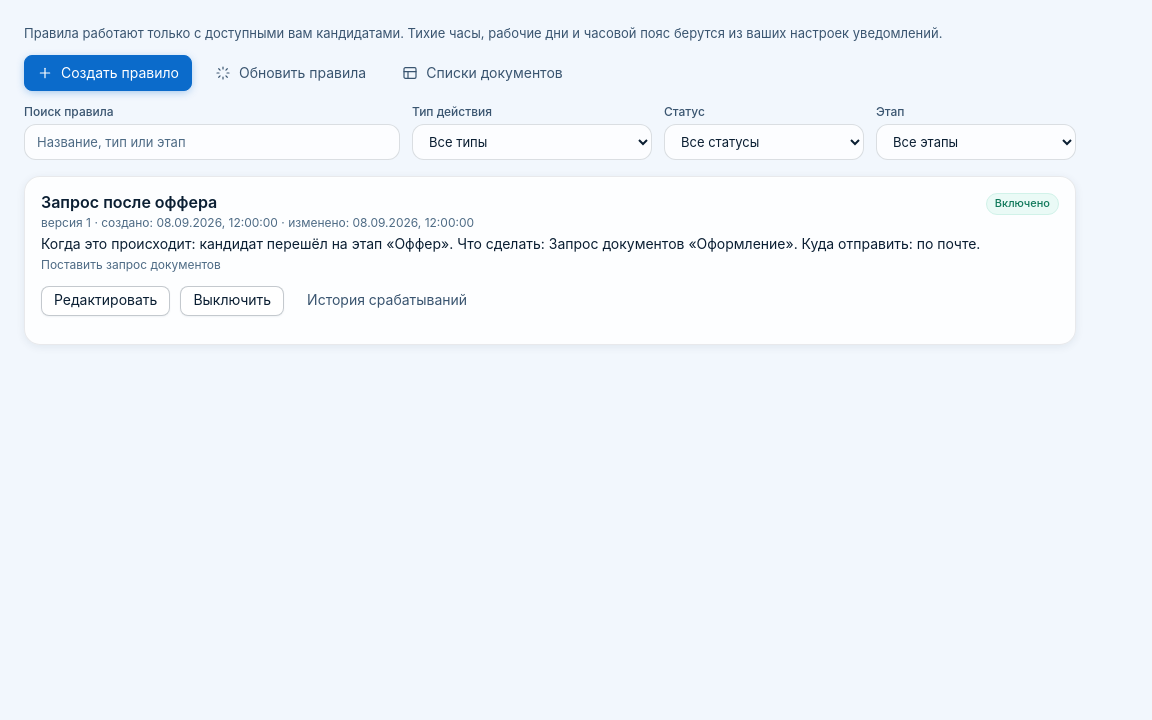
Мои правила › explains a 409 conflict and keeps the data visible
Expected: the heading "Запрос после оффера" is shown, [41, 192, 217, 212]
What coordinates should you click on to do the following:
click the button "Выключить"
I would click on:
 (232, 300)
Its box is [180, 286, 284, 316].
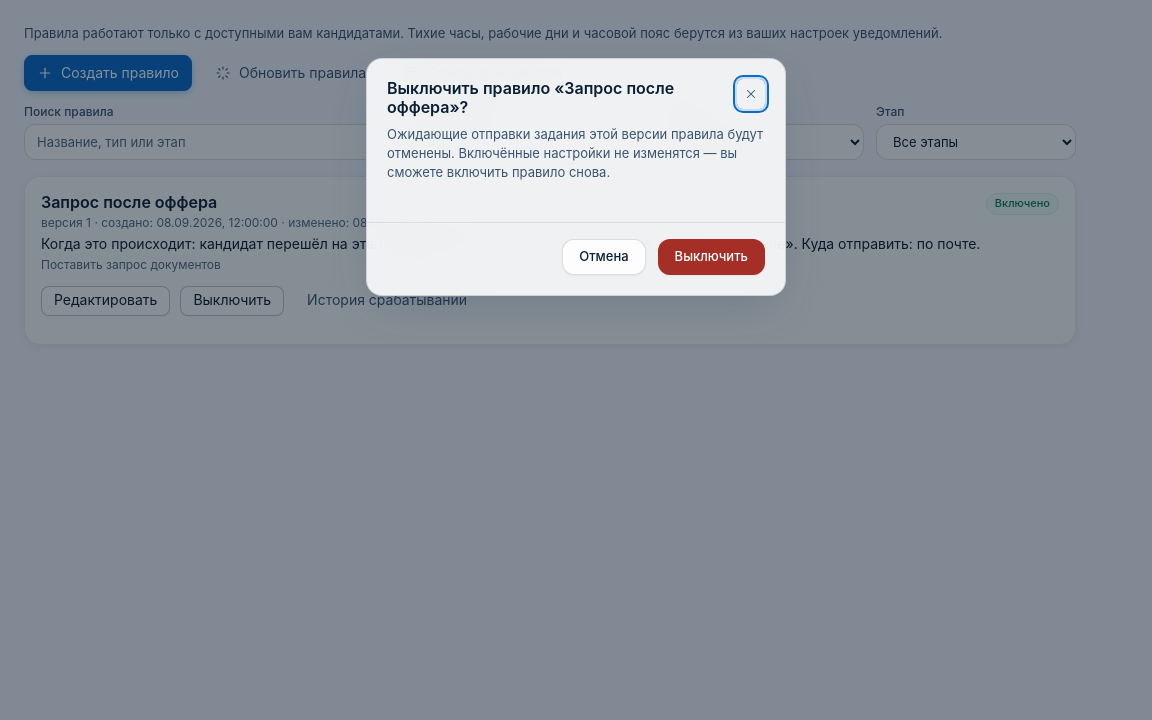
What coordinates should you click on to do the following:
click the button "Выключить"
I would click on:
 (711, 256)
Its box is [658, 238, 765, 274].
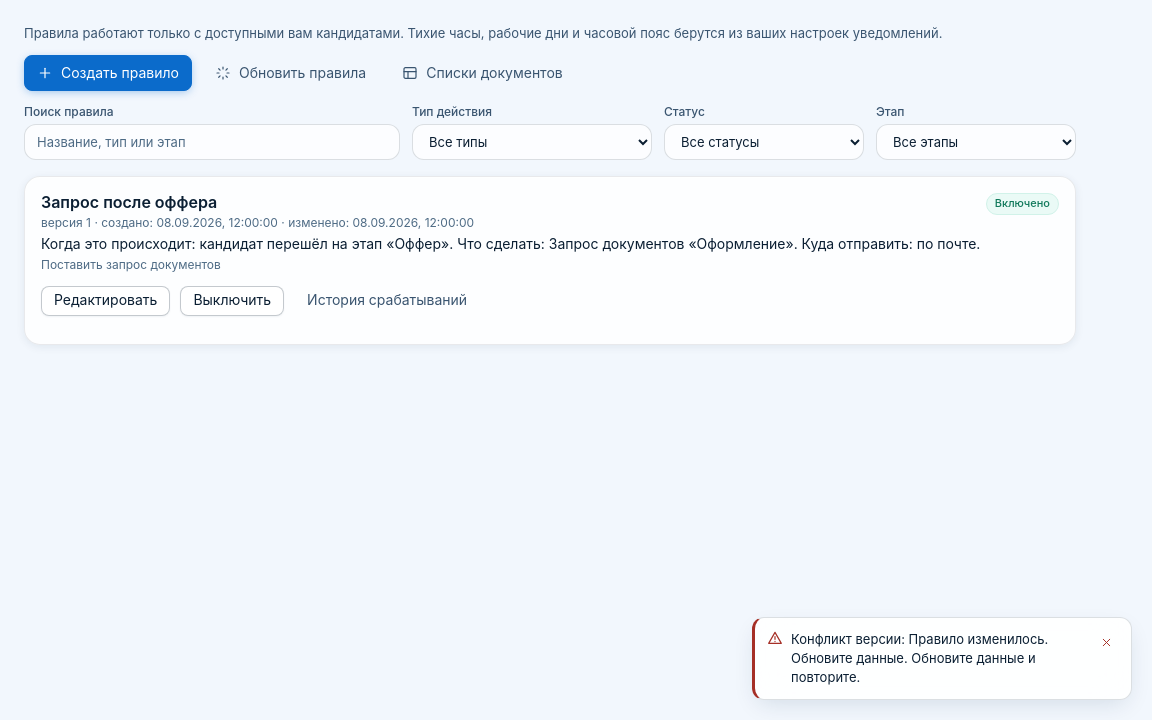
Expected: the heading "Запрос после оффера" is shown, [41, 192, 217, 212]
Now the text "Конфликт версии" is shown, box [791, 632, 1048, 685]
